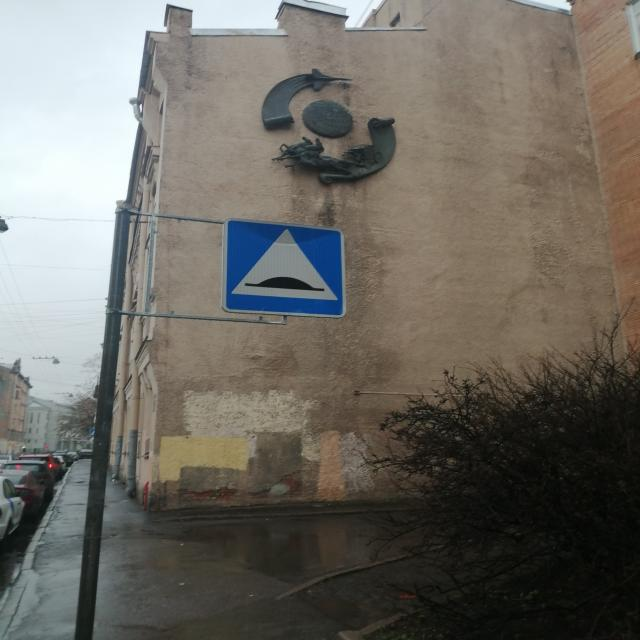road sign: (223, 222, 343, 316)
